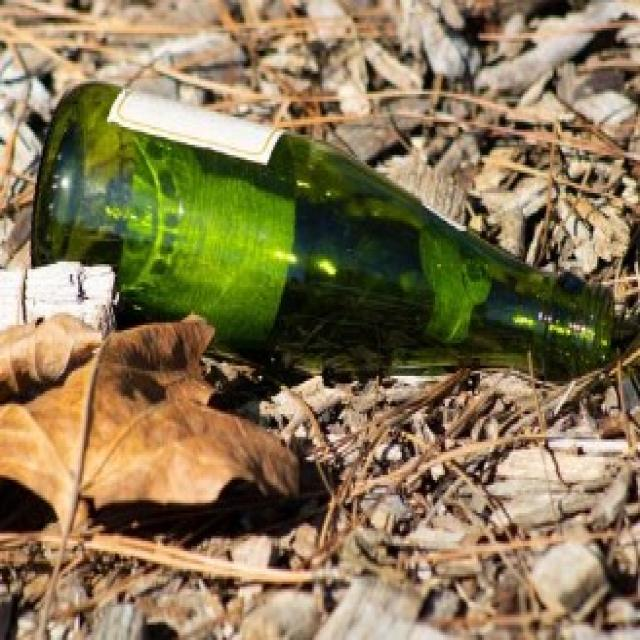electronic: (38, 94, 618, 388)
